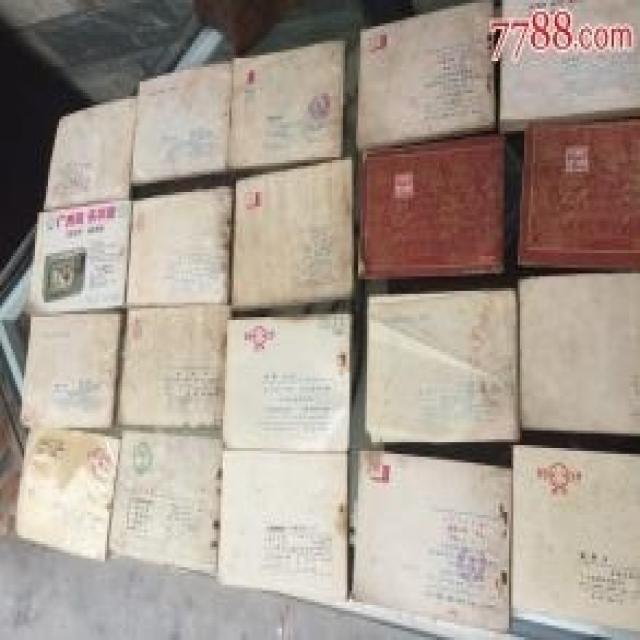box: (347, 443, 513, 632), (349, 276, 522, 451), (354, 127, 524, 283), (511, 442, 638, 637), (517, 276, 638, 457), (217, 442, 349, 602), (357, 0, 495, 153), (223, 296, 355, 451), (231, 156, 356, 308), (494, 0, 638, 131), (520, 119, 638, 277), (107, 427, 223, 582), (13, 425, 123, 564), (115, 306, 231, 437), (230, 41, 343, 164), (132, 60, 232, 198), (125, 184, 231, 307), (18, 308, 125, 428), (27, 195, 131, 316), (44, 95, 138, 212)
